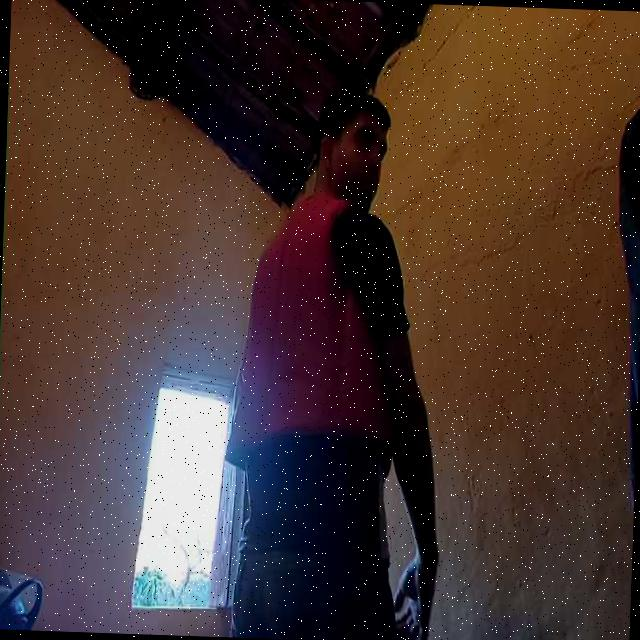colete: (224, 198, 396, 471)
pessoa: (219, 93, 454, 640)
